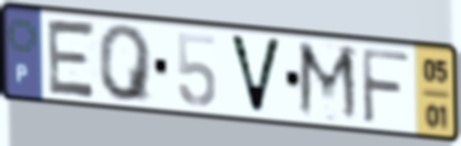5: (174, 29, 218, 109)
E: (45, 16, 99, 101)
F: (359, 45, 413, 128)
M: (295, 38, 363, 127)
Q: (96, 23, 156, 105)
V: (226, 31, 285, 117)
